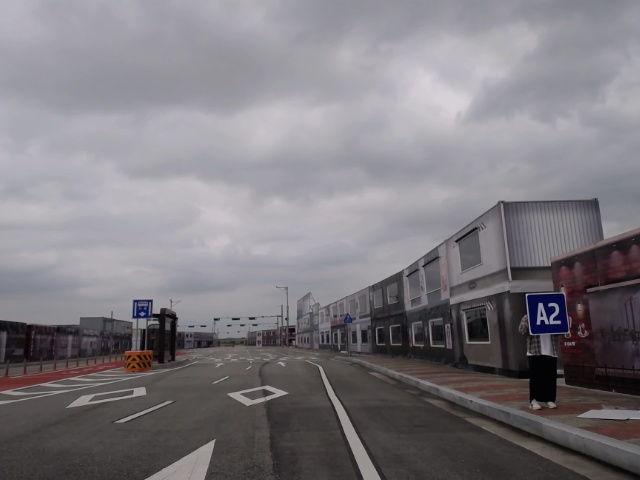delivery_a2: (526, 292, 569, 335)
